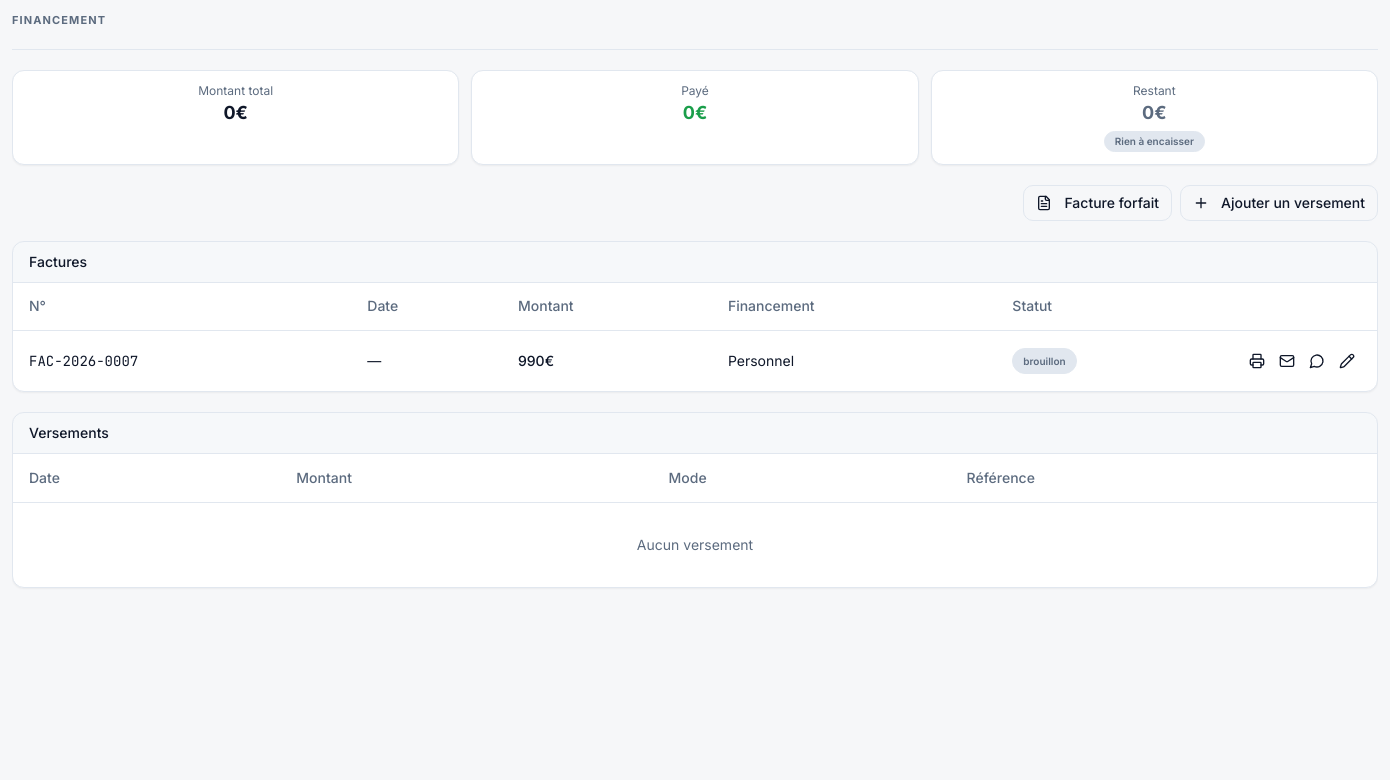
Test: PaiementsTab — versement rattaché à la bonne facture (B2) › bloque la saisie quand aucune facture n'est encaissable
Click the button "Ajouter un versement" at (1279, 202), box 1180,184 -> 1378,220
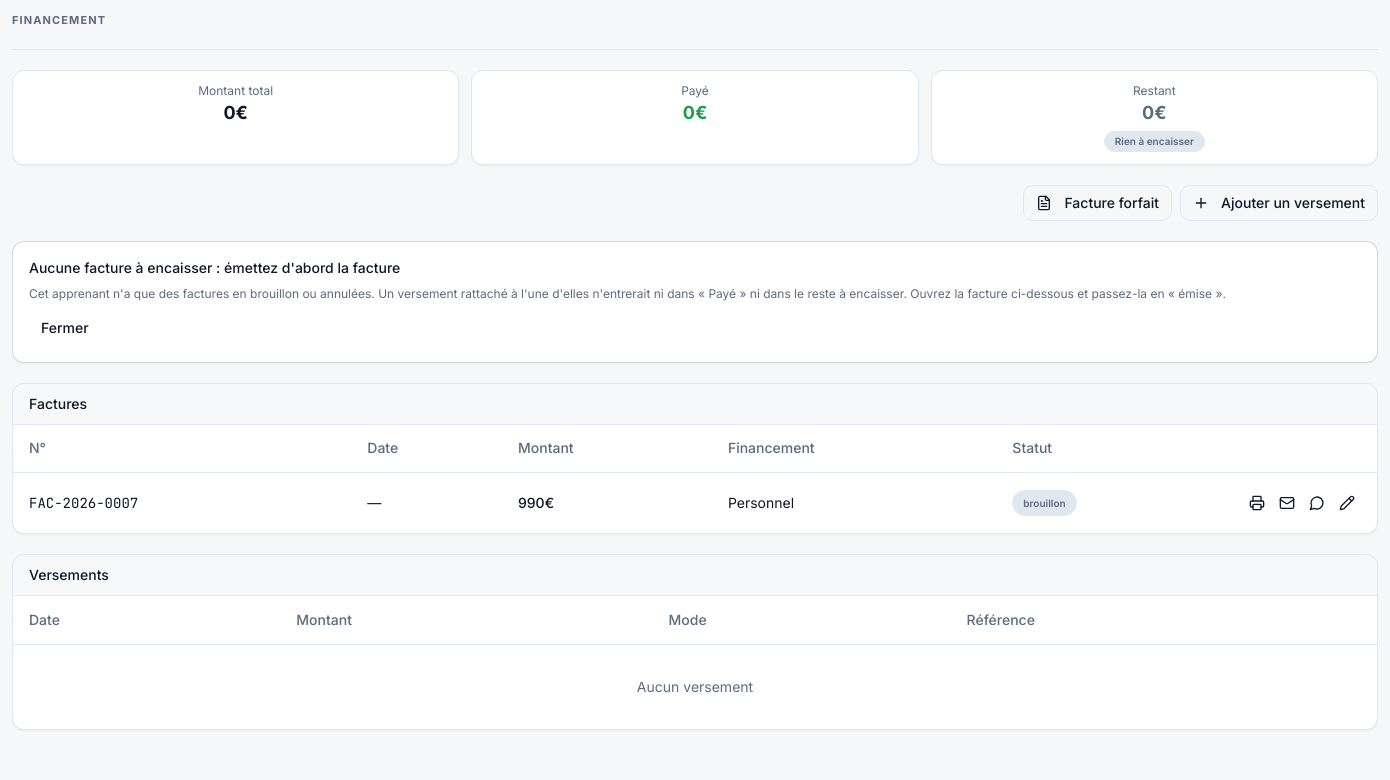
Now the text "Aucune facture à encaisser : émettez d'abord la facture" is shown, box 29,258 -> 400,276
